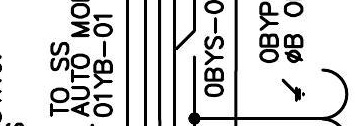115_ds: (176, 30, 197, 60)
